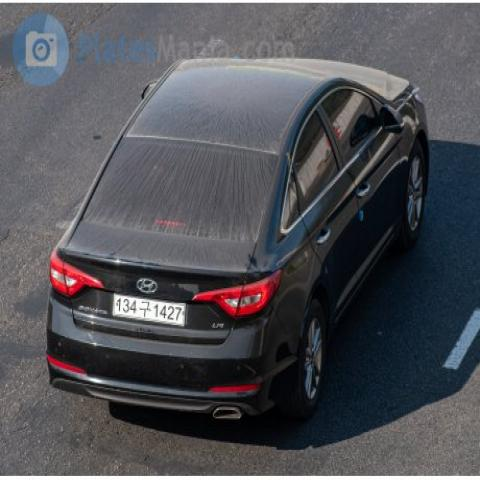LP: (110, 293, 189, 333)
